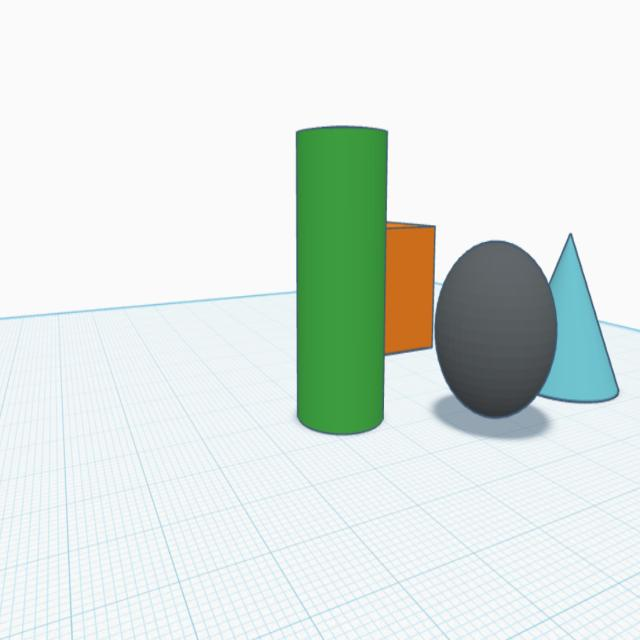sphere: (432, 237, 561, 422)
